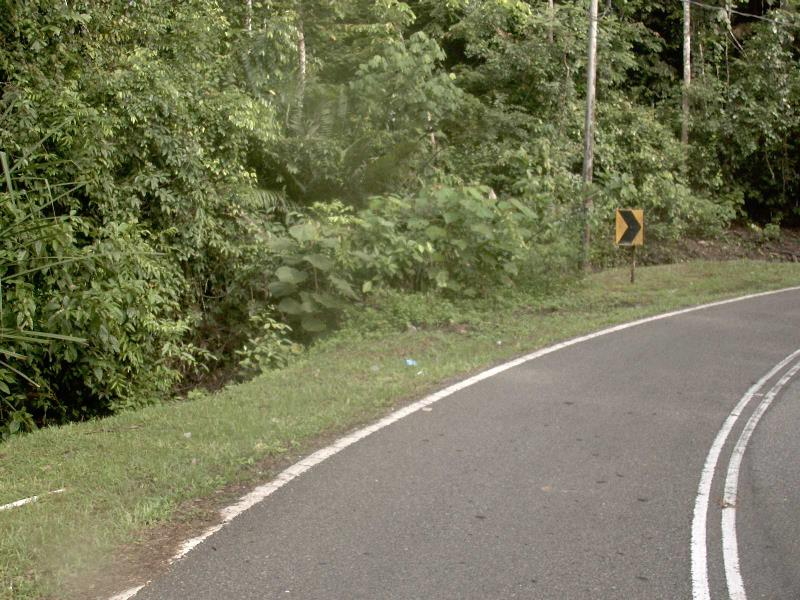traffic_sign: (605, 198, 652, 255)
